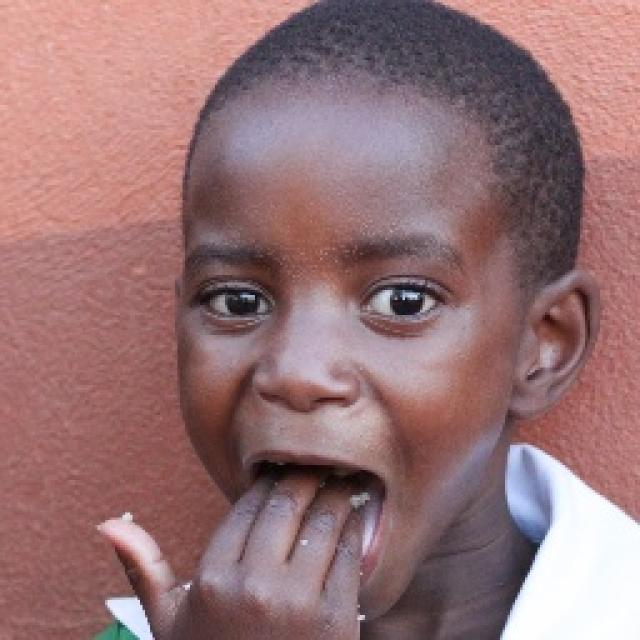earlobe: (509, 373, 547, 422)
eye: (198, 280, 274, 325), (362, 280, 441, 323)
nose: (254, 392, 354, 444)
wholeear: (509, 269, 602, 422)
